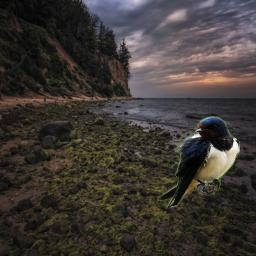Swallow: (157, 116, 240, 210)
